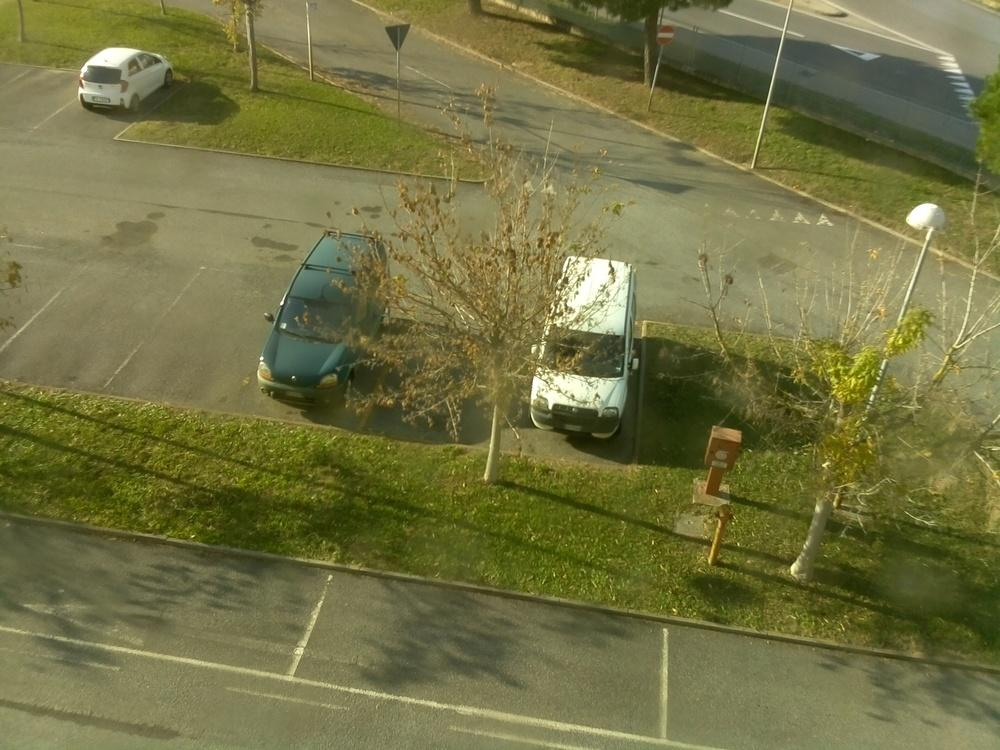empty: (252, 240, 400, 412), (74, 49, 175, 114)
occupied: (337, 604, 603, 708), (683, 642, 924, 750), (27, 537, 233, 651), (170, 277, 273, 411), (43, 274, 140, 390), (12, 63, 76, 121)
